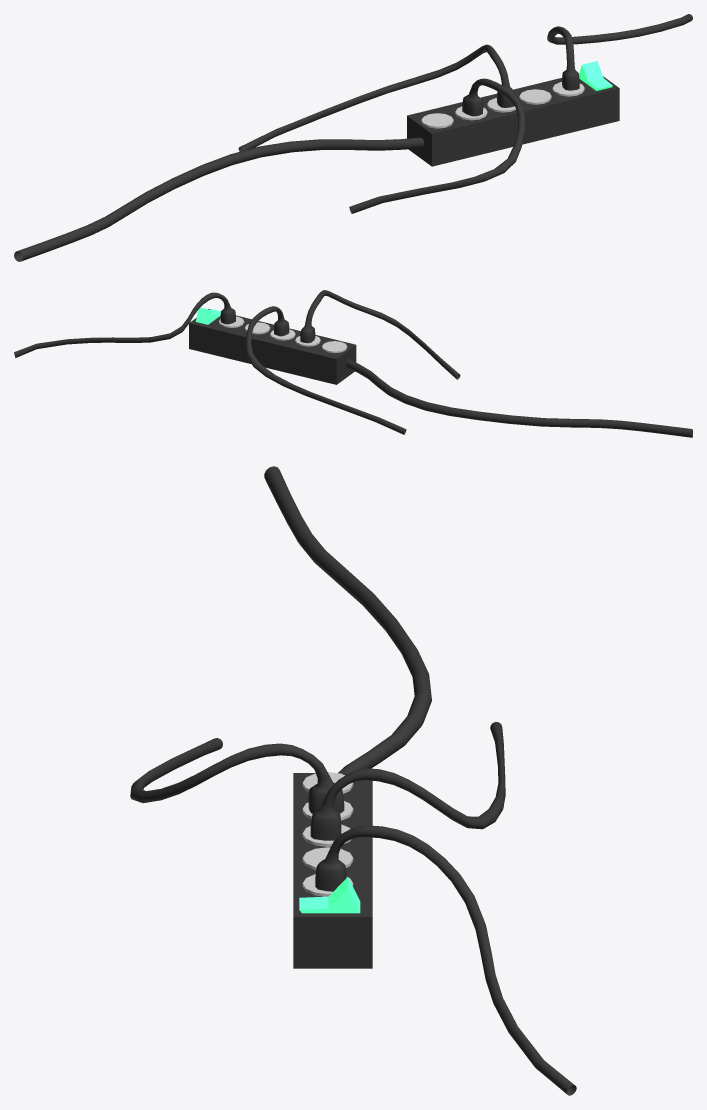
File: Power_strip.fbx
The picture shows the model from 3 angles, top to bottom: view 1: azimuth 30°, elevation 25°; view 2: azimuth 150°, elevation 25°; view 3: azimuth 270°, elevation 25°; orthographic projection. The views are drawn at different scales.
Parts seen in each view (by area): view 1: pCube6, pCylinder6, pCylinder7, pCylinder9, pCylinder8, pCube7, pCylinder2, pCylinder5; view 2: pCube6, pCylinder6, pCylinder9, pCylinder8, pCylinder7, pCube7, pCylinder5; view 3: pCube6, pCylinder6, pCylinder8, pCylinder7, pCylinder9, pCube7.
Part boxes in pixels (<box>): pCube6: <box>407,76,619,166</box>; pCylinder6: <box>14,137,424,261</box>; pCylinder7: <box>349,78,525,213</box>; pCylinder9: <box>238,44,514,151</box>; pCylinder8: <box>547,14,692,90</box>; pCube7: <box>579,61,612,90</box>; pCylinder2: <box>519,89,551,104</box>; pCylinder5: <box>421,113,453,128</box>; pCube6: <box>189,309,356,384</box>; pCylinder6: <box>346,359,692,437</box>; pCylinder9: <box>245,306,406,434</box>; pCylinder8: <box>14,292,235,357</box>; pCylinder7: <box>300,290,460,379</box>; pCube7: <box>196,307,220,324</box>; pCylinder5: <box>322,341,347,353</box>; pCube6: <box>293,773,372,968</box>; pCylinder6: <box>264,466,431,772</box>; pCylinder8: <box>315,825,576,1095</box>; pCylinder7: <box>130,738,344,813</box>; pCylinder9: <box>310,722,505,840</box>; pCube7: <box>299,877,360,913</box>.
Bounding box in the file's own units: 49.26 × 4.95 × 15.71.
